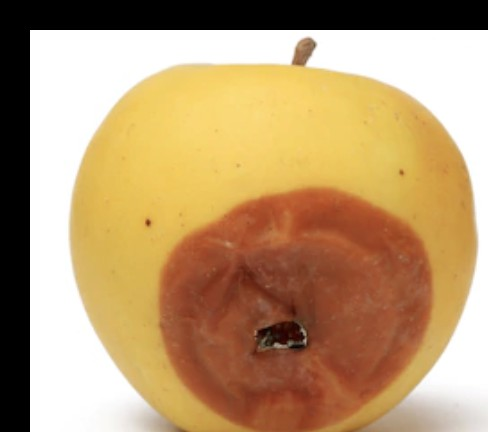rotten_apple: (65, 60, 479, 432)
